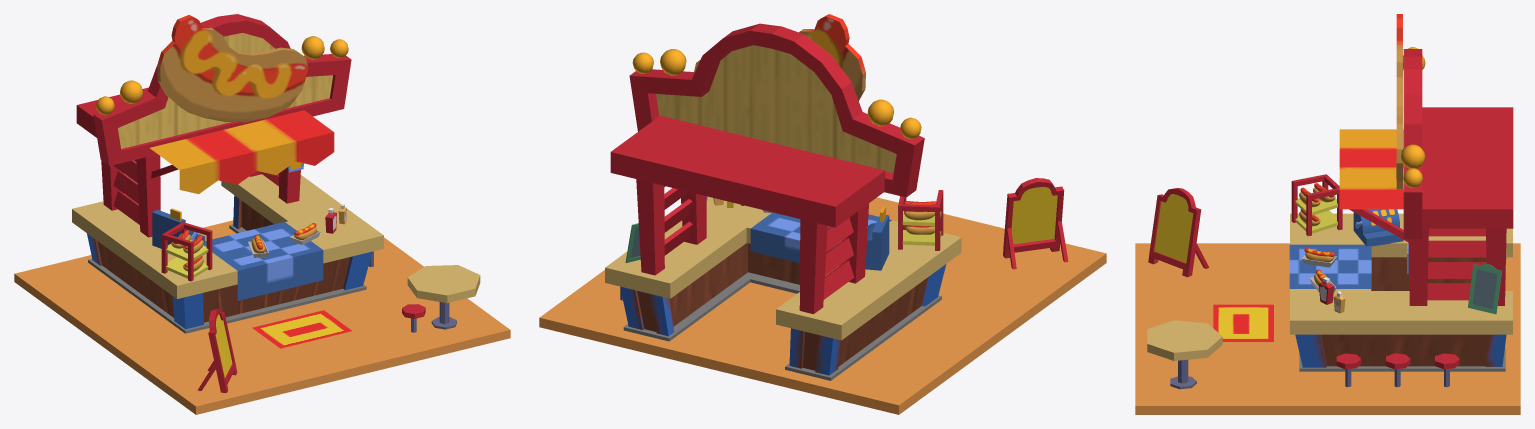
Rendered from FastFood.fbx.
The picture shows the model from 3 angles, left to right: view 1: azimuth 30°, elevation 25°; view 2: azimuth 150°, elevation 25°; view 3: azimuth 270°, elevation 25°; orthographic projection. The views are drawn at different scales.
Parts seen in each view (by area): view 1: Plane.001, Balcão.002, Plane, Faixada, pano.001, pano, Balcão.001, balcão03, Circle, Balcão, Plano.001, chão (+6 smaller); view 2: Plane.001, Faixada, Cube, Balcão.002, balcão03, Balcão.001, Placa, Balcão, chão, balcão02, Plane, pano (+3 smaller); view 3: Plane.001, Cube, Balcão.002, Balcão.001, pano.001, Placa, balcão02, Faixada, pano, balcão03, Circle, Plano.001 (+9 smaller).
Boxes of the visible parts, <box> form: Plane.001: <box>14,220,510,414</box>; Balcão.002: <box>72,174,383,298</box>; Plane: <box>157,15,308,122</box>; Faixada: <box>93,14,351,165</box>; pano.001: <box>150,110,334,194</box>; pano: <box>203,222,323,300</box>; Balcão.001: <box>97,201,350,322</box>; balcão03: <box>101,154,300,237</box>; Circle: <box>407,265,480,303</box>; Balcão: <box>87,195,372,329</box>; Plano.001: <box>252,310,351,348</box>; chão: <box>88,224,366,333</box>; Plane.001: <box>539,197,1106,414</box>; Faixada: <box>629,23,924,197</box>; Cube: <box>610,115,885,227</box>; Balcão.002: <box>605,196,961,340</box>; balcão03: <box>636,179,868,314</box>; Balcão.001: <box>637,243,928,370</box>; Placa: <box>1003,178,1068,269</box>; Balcão: <box>620,264,946,375</box>; chão: <box>623,272,941,380</box>; balcão02: <box>664,186,854,299</box>; Plane: <box>694,14,865,100</box>; pano: <box>750,213,891,263</box>; Plane.001: <box>1135,243,1520,414</box>; Cube: <box>1422,107,1513,228</box>; Balcão.002: <box>1290,213,1512,334</box>; Balcão.001: <box>1321,257,1488,366</box>; pano.001: <box>1339,129,1403,209</box>; Placa: <box>1148,188,1209,277</box>; balcão02: <box>1427,228,1486,300</box>; Faixada: <box>1403,49,1422,238</box>; pano: <box>1289,244,1371,288</box>; balcão03: <box>1349,209,1506,305</box>; Circle: <box>1147,320,1222,360</box>; Plano.001: <box>1213,304,1273,341</box>.
Bounding box in the file's own units: 200 × 169 × 200.
